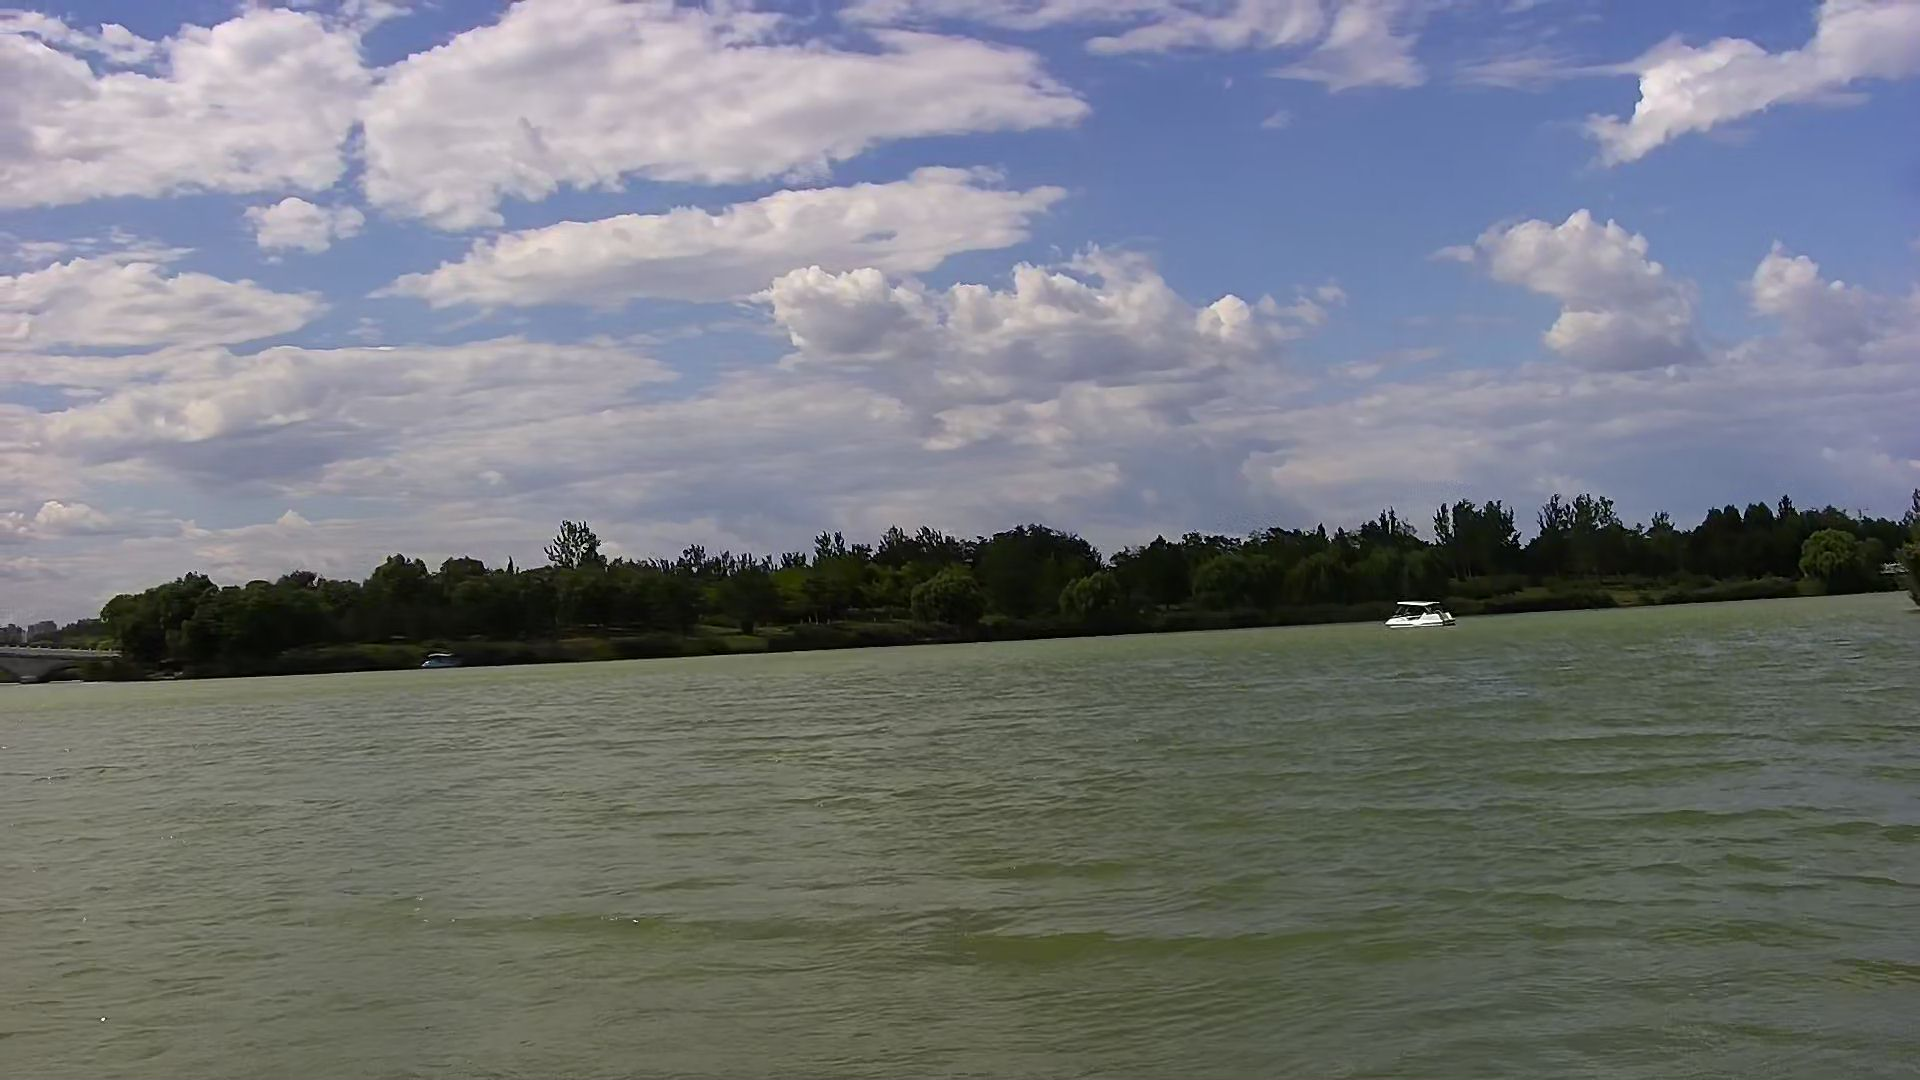boat: (1379, 595, 1458, 634), (422, 647, 452, 671)
bridge: (1, 644, 123, 680)
